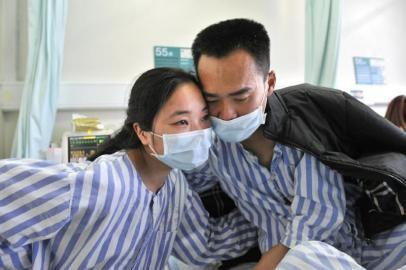OK: (150, 102, 221, 173)
WRONG: (203, 84, 260, 141)
